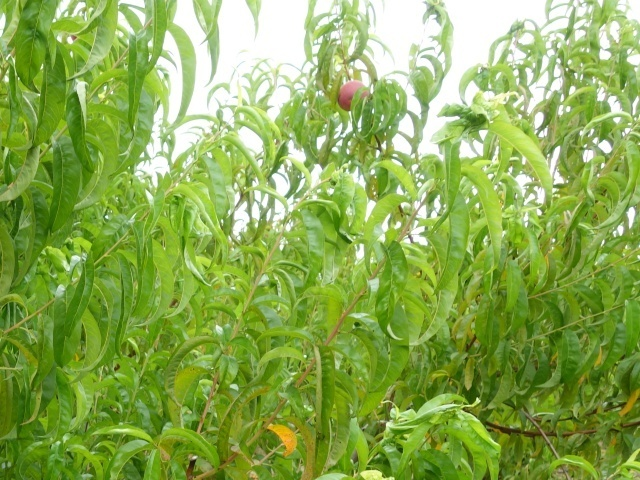peach: (333, 77, 373, 111)
